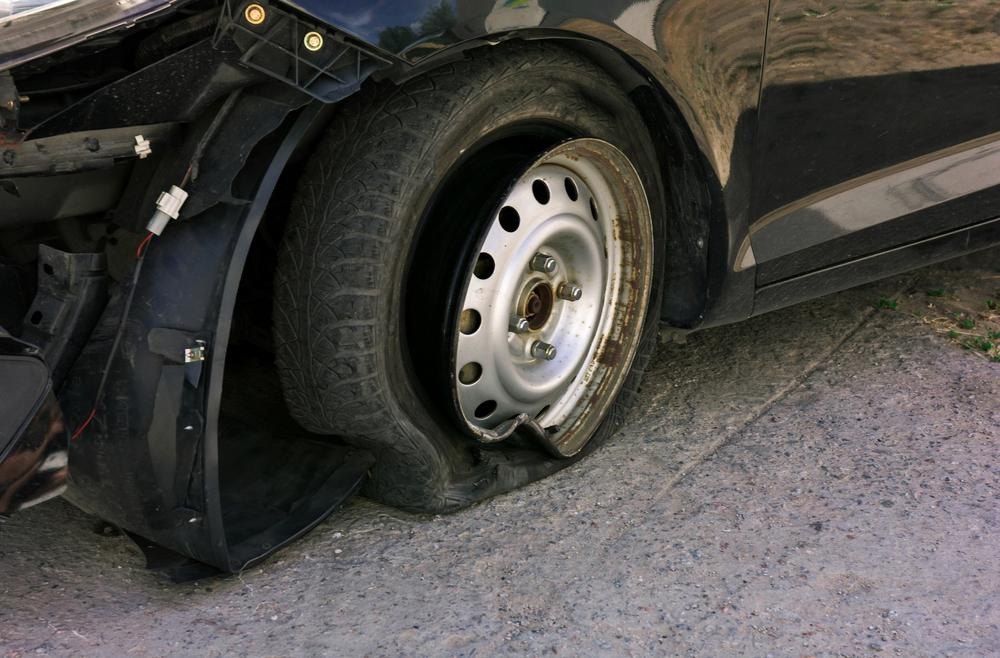tire flat: (274, 48, 672, 513)
